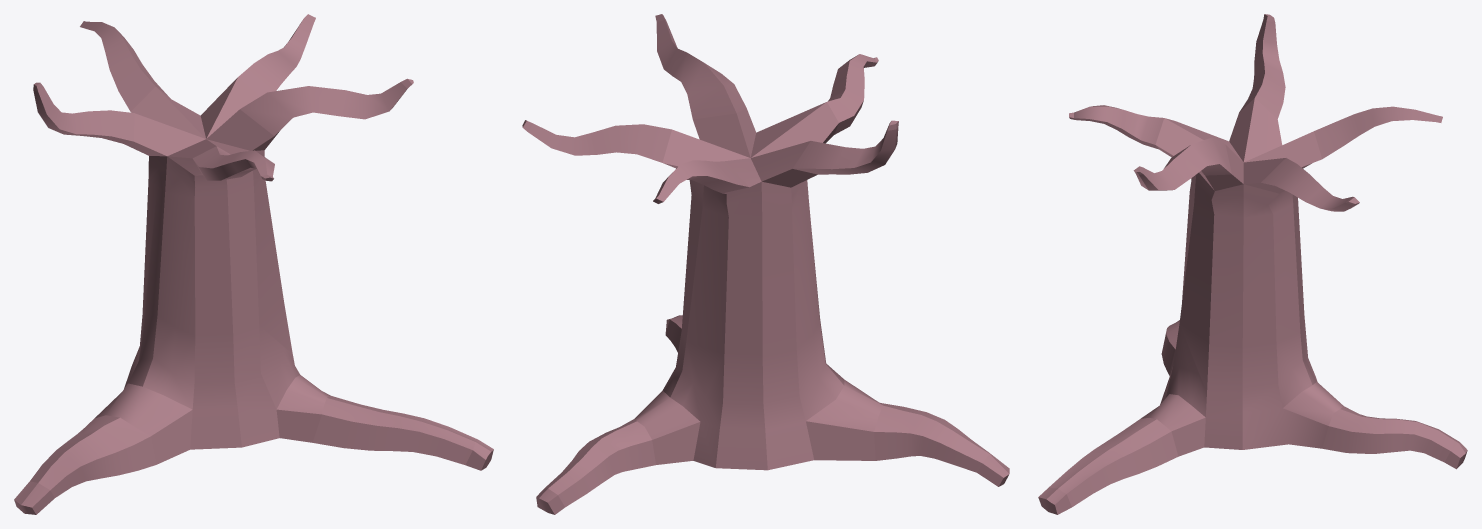
Rendered from TreeWithLeaves.fbx.
3 renders of one model, left to right at view 1: azimuth 30°, elevation 25°; view 2: azimuth 150°, elevation 25°; view 3: azimuth 270°, elevation 25°, orthographic. The views are drawn at different scales.
Parts seen in each view (by area): view 1: polySurface15; view 2: polySurface15; view 3: polySurface15.
Part boxes in pixels (x1,y1,x2,y2): polySurface15: (14,14,493,514); polySurface15: (522,14,1009,514); polySurface15: (1038,14,1467,514).
Size of the model in its own units: 24.46 by 21.84 by 24.22.
